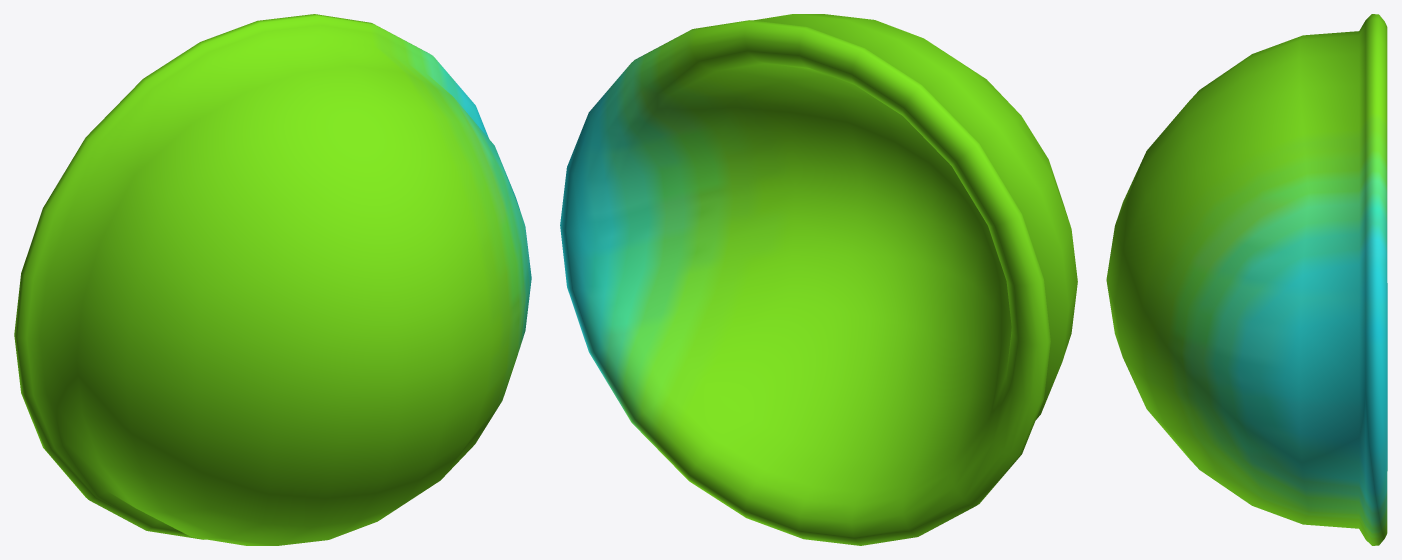
Rendered from AmongUs_Cut_05_Pupka_003_0.FBX.
The picture shows the model from 3 angles, left to right: view 1: azimuth 30°, elevation 25°; view 2: azimuth 150°, elevation 25°; view 3: azimuth 270°, elevation 25°; orthographic projection. The views are drawn at different scales.
Parts seen in each view (by area): view 1: AmongUs_Cut_05_Pupka_003_0; view 2: AmongUs_Cut_05_Pupka_003_0; view 3: AmongUs_Cut_05_Pupka_003_0.
Boxes of the visible parts, left/top/right/bottom form: AmongUs_Cut_05_Pupka_003_0: left=14, top=14, right=531, bottom=545; AmongUs_Cut_05_Pupka_003_0: left=560, top=14, right=1077, bottom=545; AmongUs_Cut_05_Pupka_003_0: left=1106, top=14, right=1387, bottom=545.
Size of the model in its own units: 0.7857 by 0.4145 by 0.7857.
